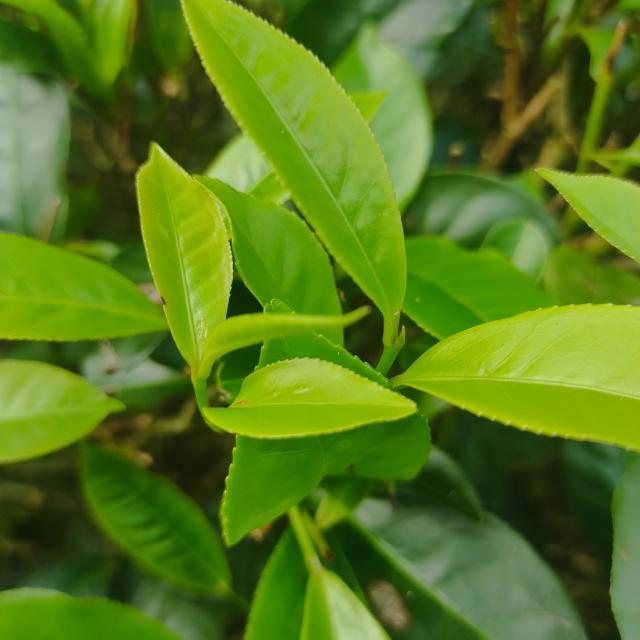unopened_leaf: (195, 293, 377, 380)
